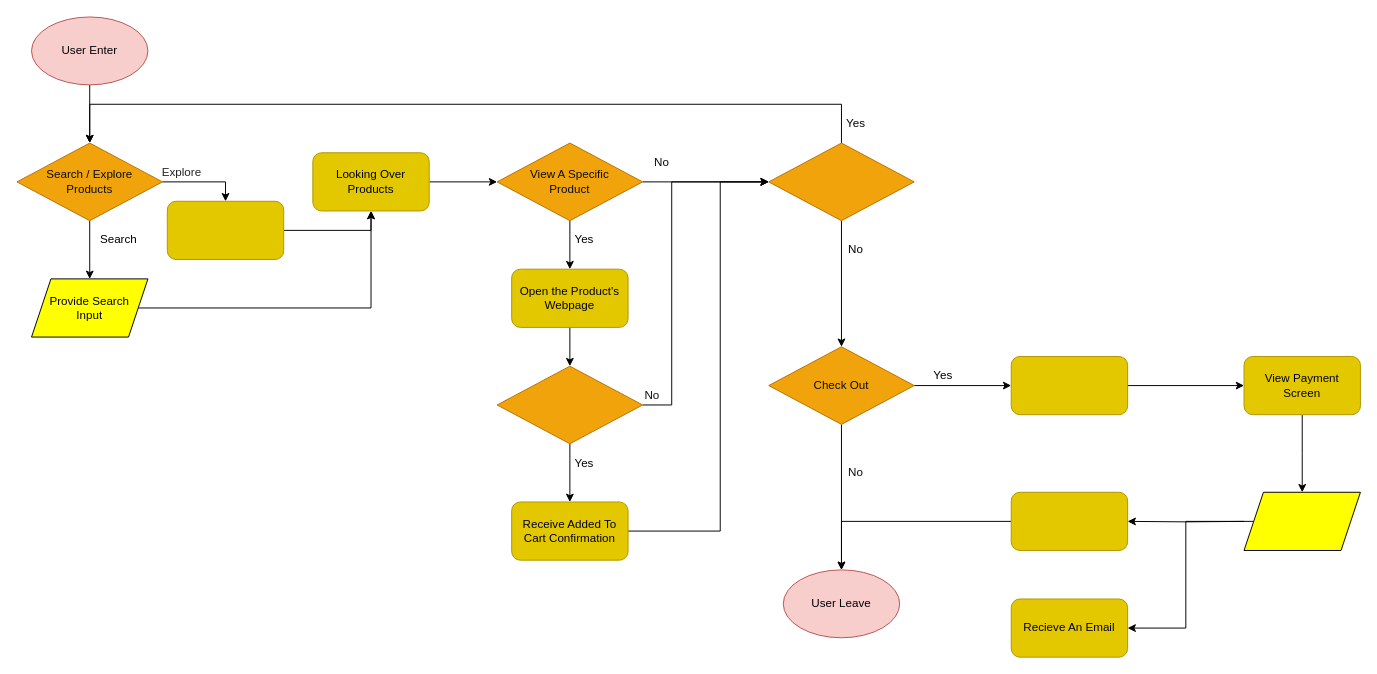
The diagram is 1377 pixels wide and 674 high, and some of its shapes have lost their labels. Here are the shapes that lost their labels. From the top down, the centre of each, then its label:
At point 841,181: "Continue Shopping".
At point 225,229: "Stay on the home page".
At point 569,404: "Add To Cart".
At point 1069,385: "View Cart Screen".
At point 1069,520: "See Order Confirmation".
At point 1301,520: "Give Input of Payment Information".
